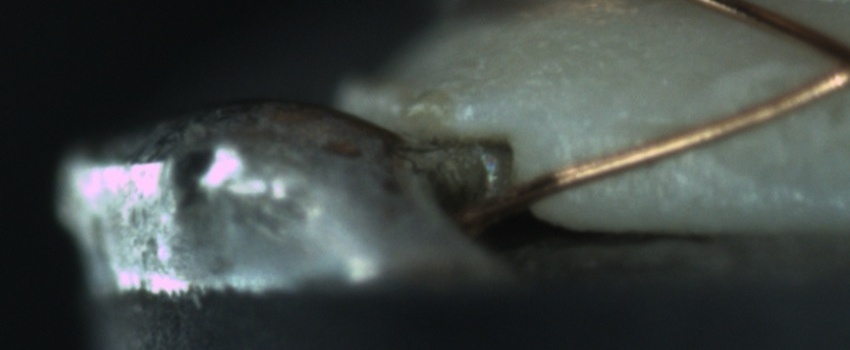CL: (804, 24, 849, 98)
DL: (569, 101, 701, 155)
